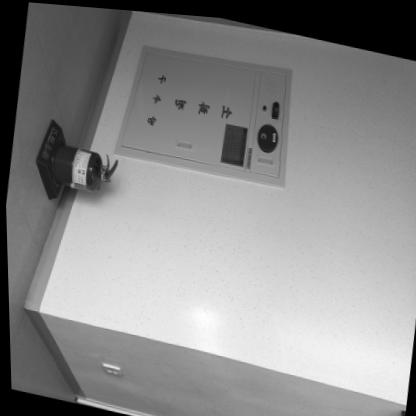FE: (29, 114, 121, 203)
